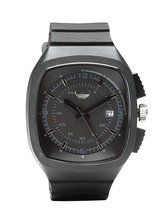watch: (19, 19, 150, 210)
